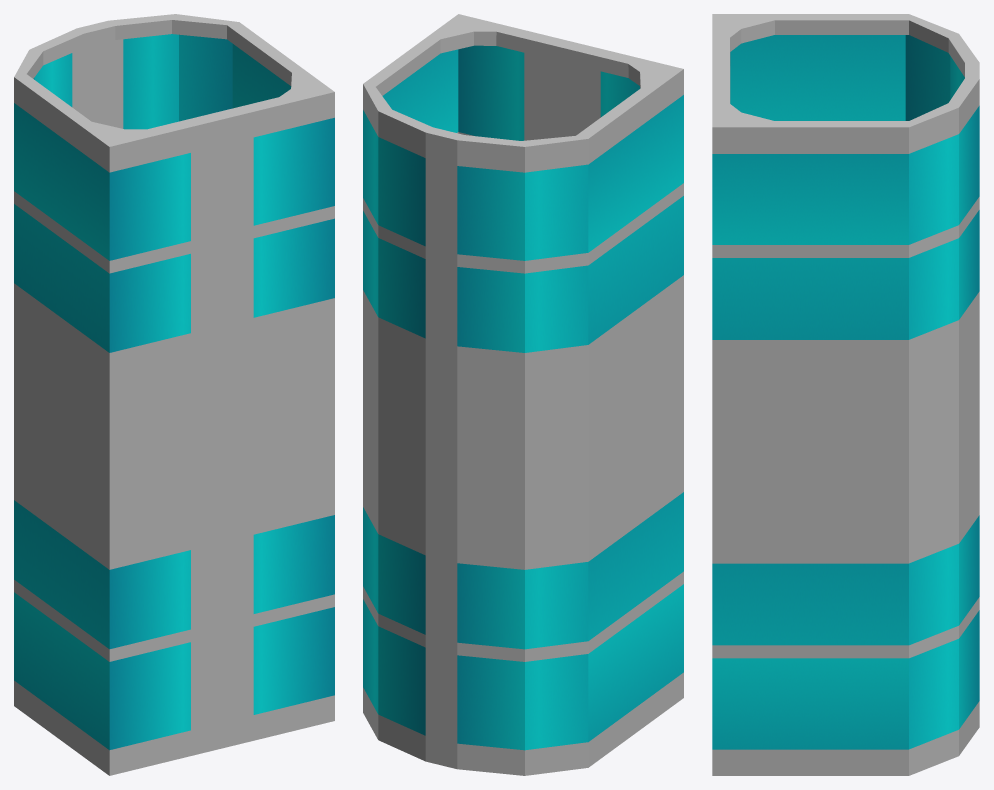
Rendered from Corridors_2.fbx.
3 renders of one model, left to right at view 1: azimuth 30°, elevation 25°; view 2: azimuth 150°, elevation 25°; view 3: azimuth 270°, elevation 25°, orthographic. The views are drawn at different scales.
Visible parts, largest first — view 1: Cube_001; view 2: Cube_001; view 3: Cube_001.
Part boxes in pixels (x1,y1,x2,y2): Cube_001: (14, 14, 334, 775); Cube_001: (363, 14, 683, 775); Cube_001: (712, 14, 979, 775).
Size of the model in its own units: 6 by 16 by 5.98.
